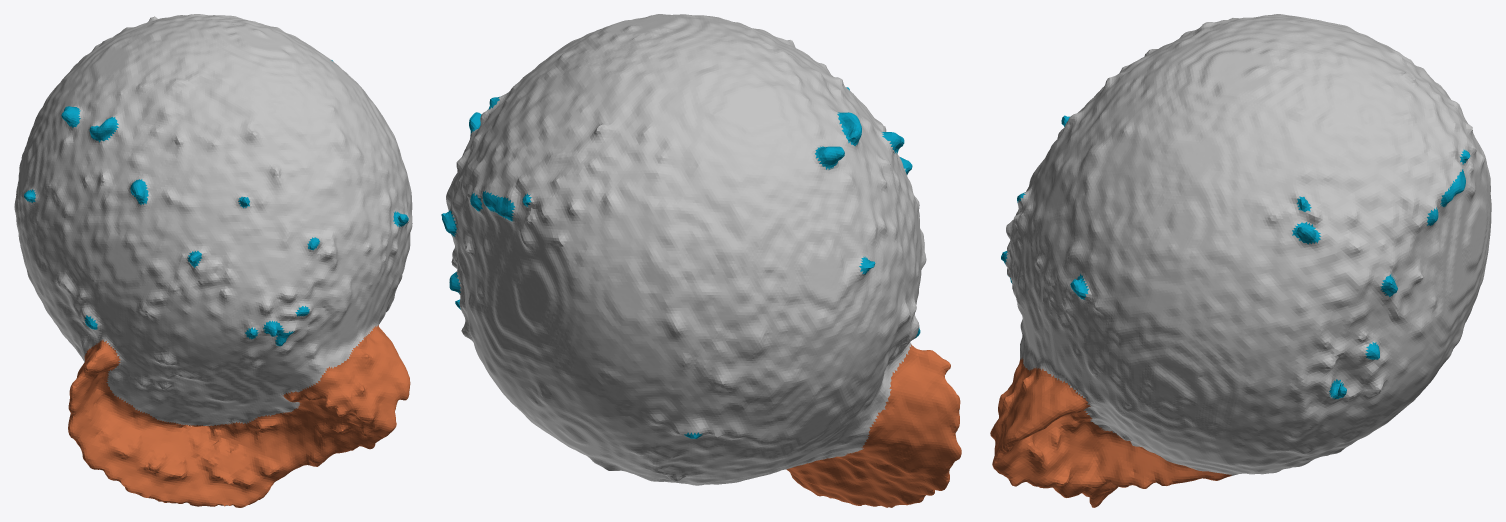
3 views of the same model, side by side, from view 1: azimuth 30°, elevation 25°; view 2: azimuth 150°, elevation 25°; view 3: azimuth 270°, elevation 25° (orthographic). The views are drawn at different scales.
Size of the model in its own units: 129 by 144 by 134.
